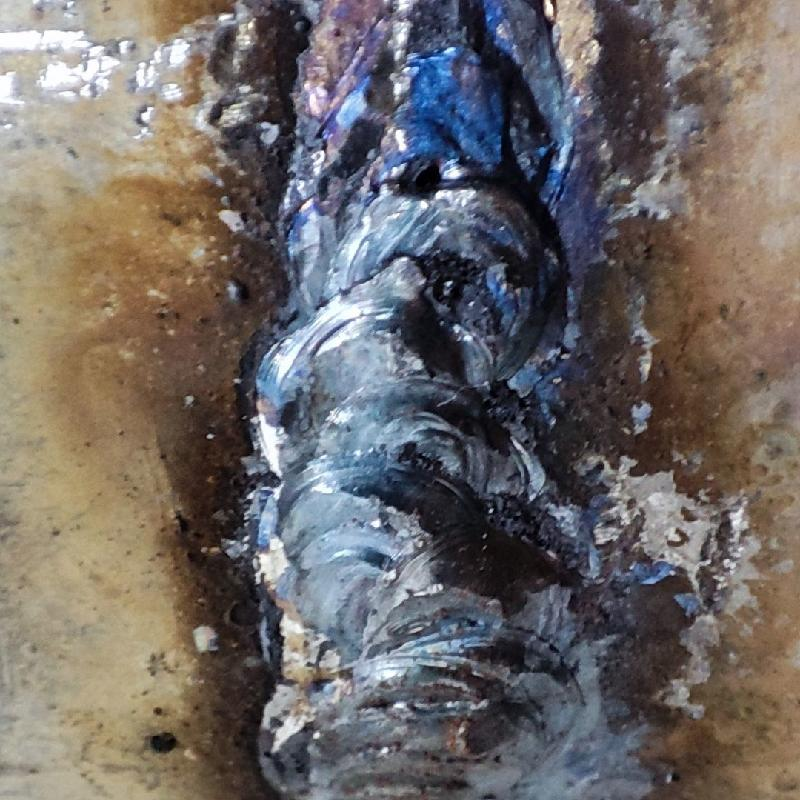Surface_pores: (384, 135, 473, 215)
